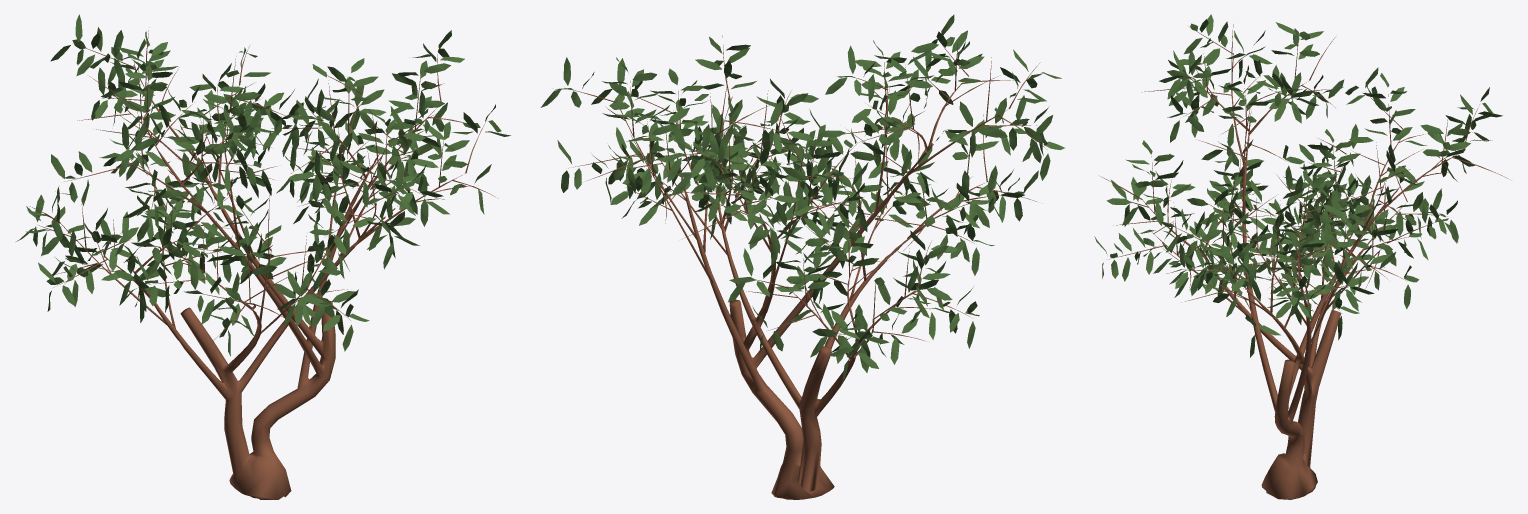
File: Arbousier_0_Niveau1.fbx
3 renders of one model, left to right at view 1: azimuth 30°, elevation 25°; view 2: azimuth 150°, elevation 25°; view 3: azimuth 270°, elevation 25°, orthographic. The views are drawn at different scales.
Parts seen in each view (by area): view 1: Arbousier_0_Niveau1_Jeu; view 2: Arbousier_0_Niveau1_Jeu; view 3: Arbousier_0_Niveau1_Jeu.
Boxes of the visible parts, x1=… form: Arbousier_0_Niveau1_Jeu: x1=16, y1=14, x2=510, y2=499; Arbousier_0_Niveau1_Jeu: x1=540, y1=14, x2=1064, y2=499; Arbousier_0_Niveau1_Jeu: x1=1094, y1=14, x2=1511, y2=499.
Size of the model in its own units: 216 by 212 by 194.
